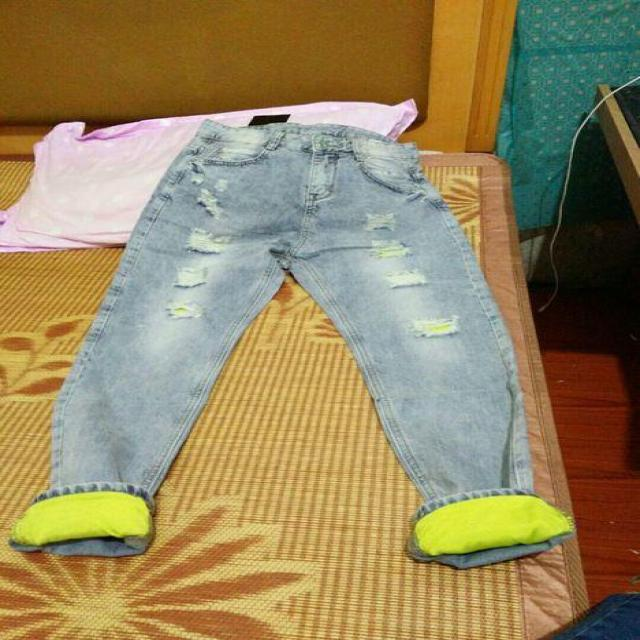trousers: (14, 120, 570, 559)
